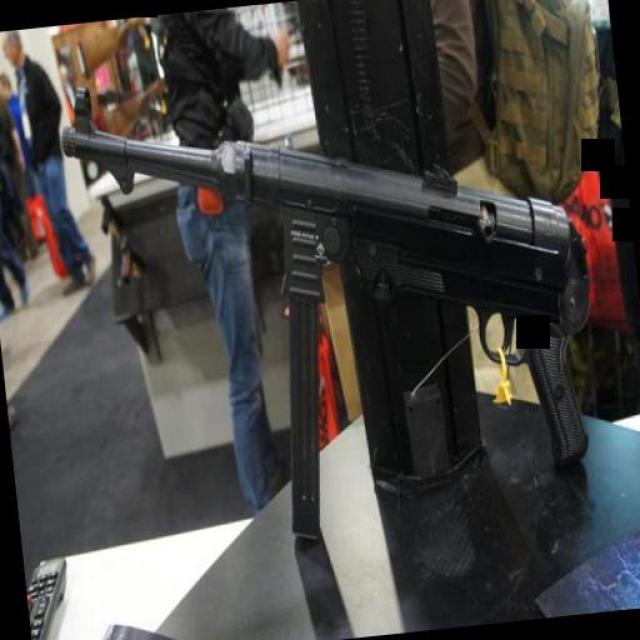gun: (54, 59, 625, 590)
